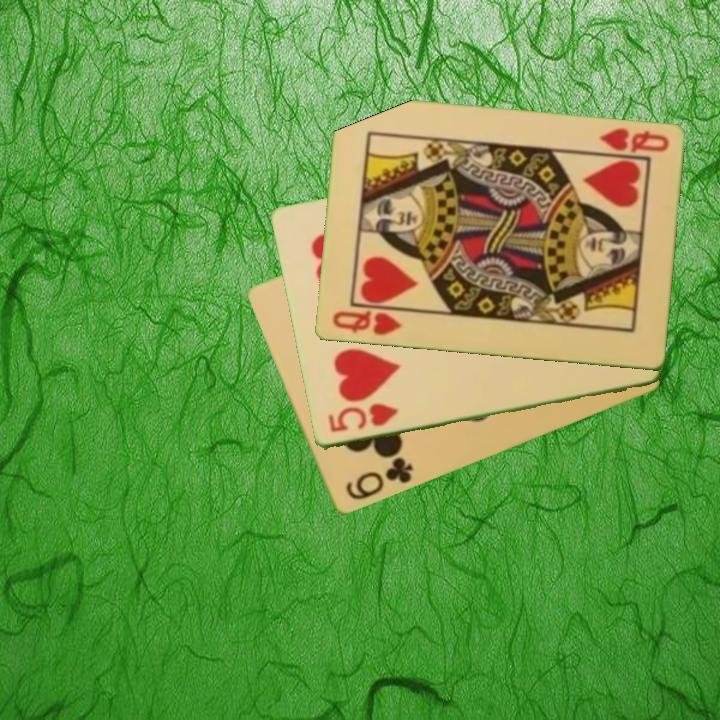5h: (323, 400, 401, 436)
6c: (342, 454, 416, 504)
Qh: (595, 125, 672, 160), (328, 307, 405, 339)
